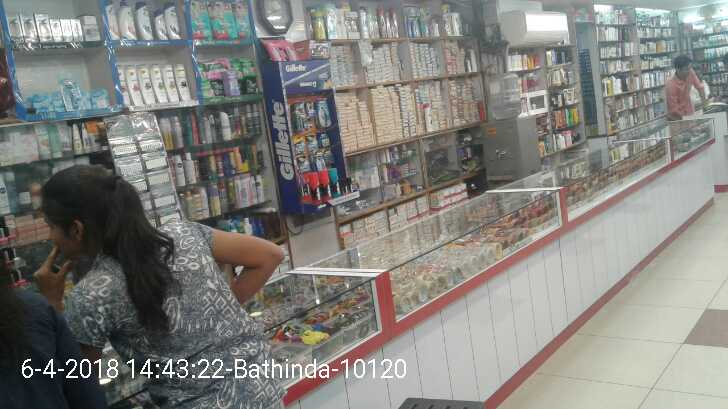gillete: (290, 102, 305, 131), (316, 100, 332, 127), (309, 171, 320, 206), (314, 151, 333, 169), (322, 171, 330, 201), (331, 169, 340, 195), (295, 135, 305, 151), (318, 133, 329, 147), (297, 156, 307, 171), (307, 135, 317, 148), (348, 176, 353, 193), (342, 179, 347, 193)
venus: (62, 75, 88, 111), (33, 93, 60, 112), (89, 88, 109, 106)
